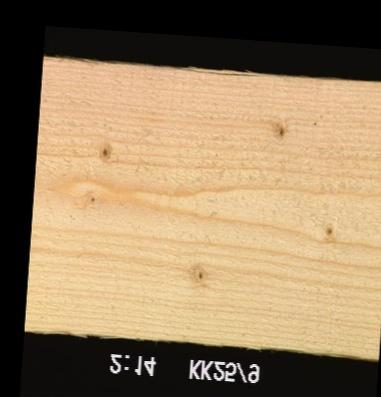small_knot: (266, 119, 287, 146), (94, 142, 113, 165), (188, 262, 206, 285), (82, 192, 99, 209), (320, 222, 335, 240)
